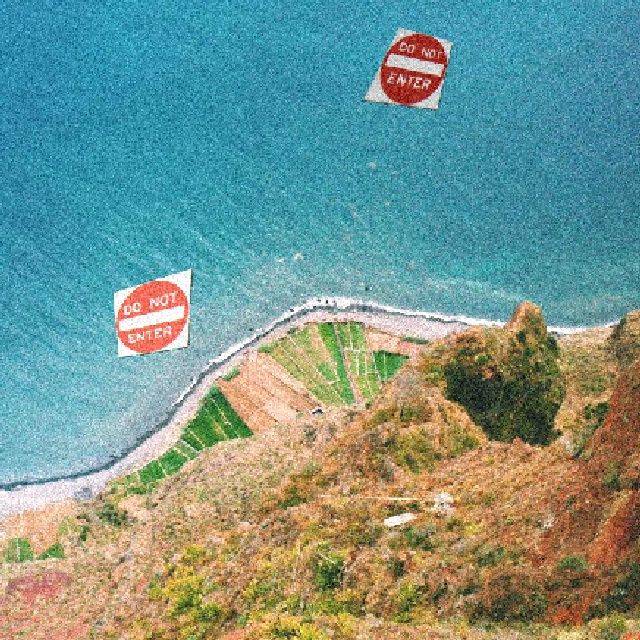DO_NOT_ENTER: (361, 25, 452, 109), (111, 266, 191, 357)
